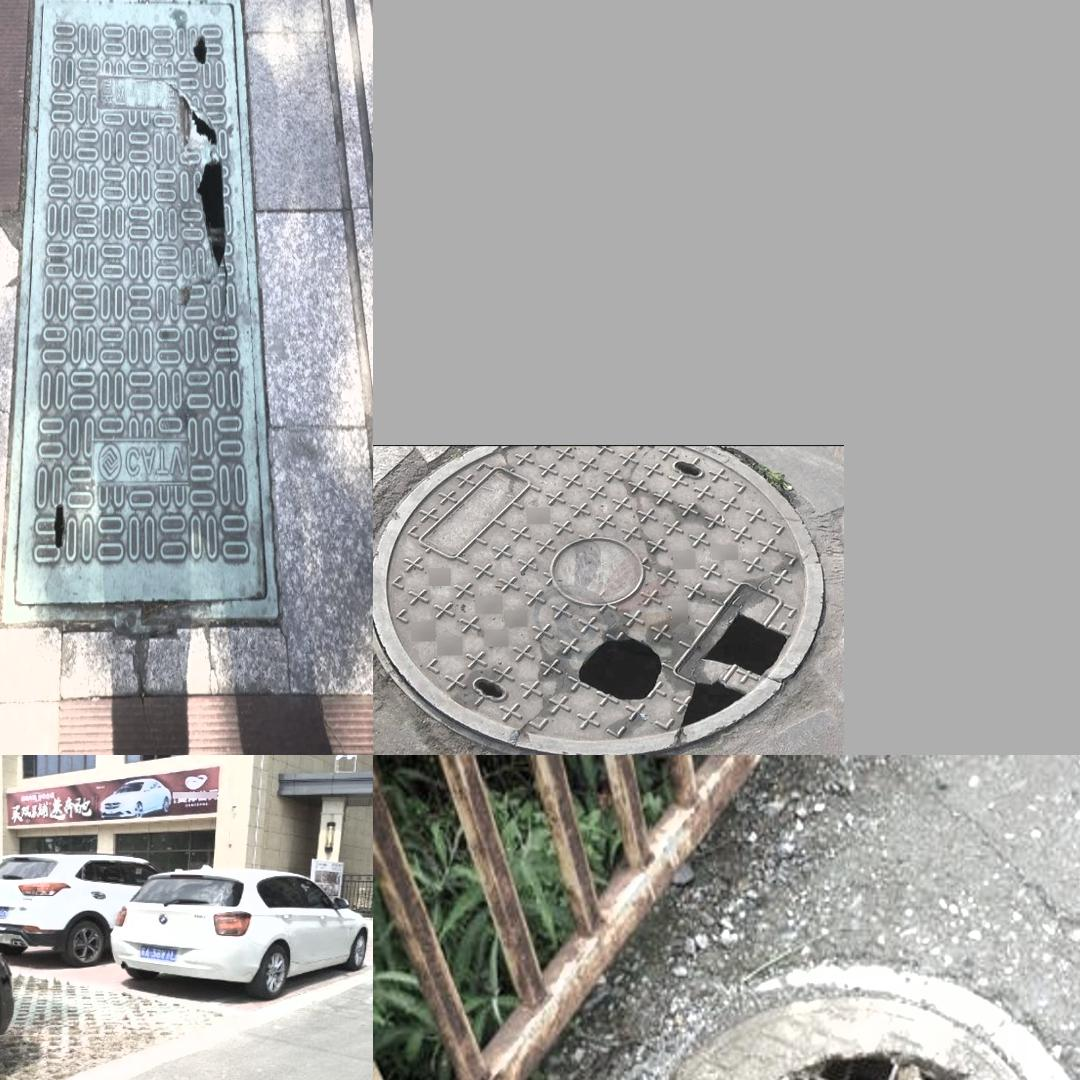broke: (3, 0, 280, 624), (386, 445, 802, 745), (575, 959, 1080, 1080)
